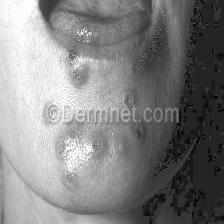Toxin: (55, 128, 151, 192), (132, 15, 172, 95), (64, 47, 82, 85), (74, 21, 102, 41), (120, 90, 138, 104)
